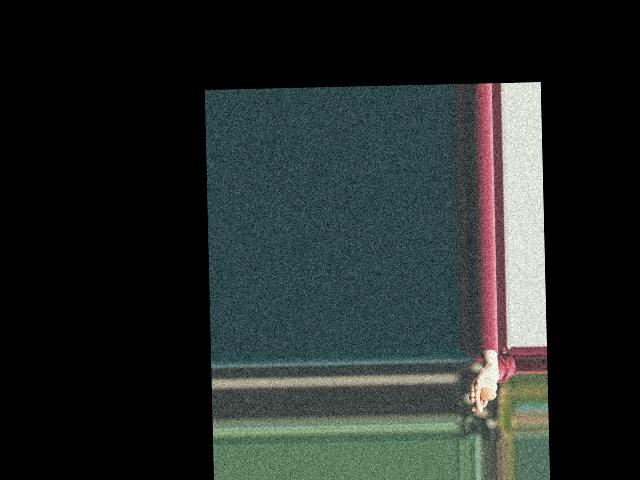egg: (480, 387, 496, 400)
